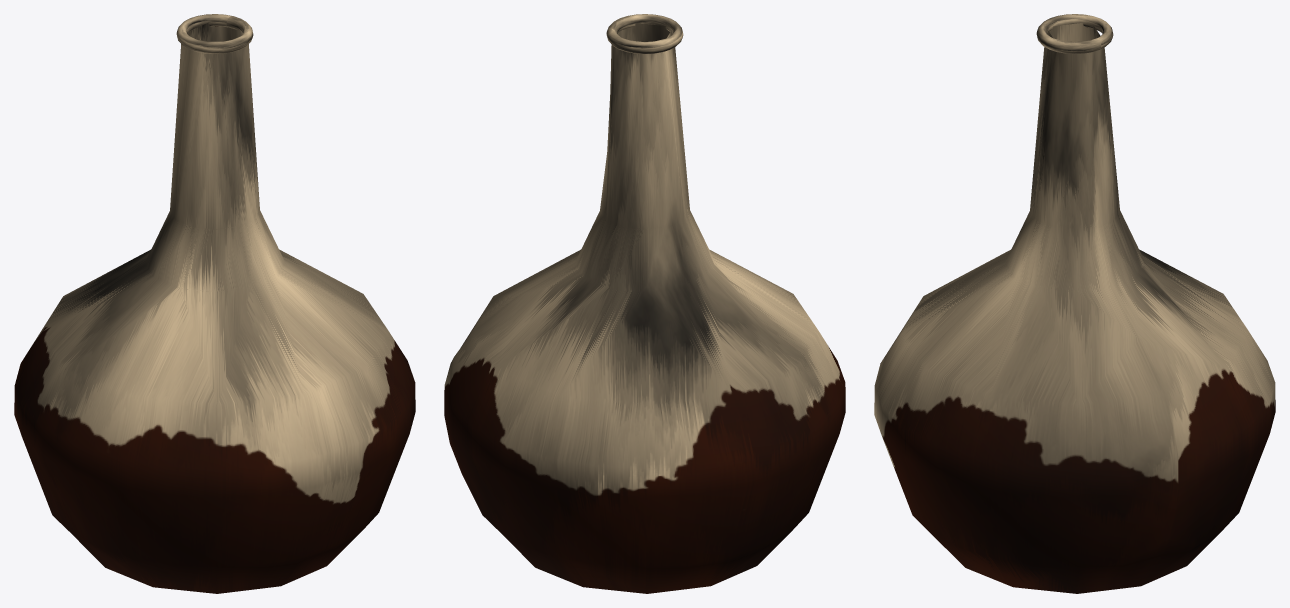
The model's file is tsubo2.fbx.
The picture shows the model from 3 angles, left to right: view 1: azimuth 30°, elevation 25°; view 2: azimuth 150°, elevation 25°; view 3: azimuth 270°, elevation 25°; orthographic projection.
Visible parts, largest first — view 1: nurbsToPoly7, nurbsToPoly8; view 2: nurbsToPoly7, nurbsToPoly8; view 3: nurbsToPoly7, nurbsToPoly8.
Part boxes in pixels (x1,y1,x2,y2): nurbsToPoly7: (14, 22, 415, 593); nurbsToPoly8: (176, 14, 253, 53); nurbsToPoly7: (444, 23, 845, 593); nurbsToPoly8: (606, 14, 683, 53); nurbsToPoly7: (874, 23, 1275, 593); nurbsToPoly8: (1036, 14, 1113, 53).
Bounding box in the file's own units: 21.39 × 30.99 × 21.39.
